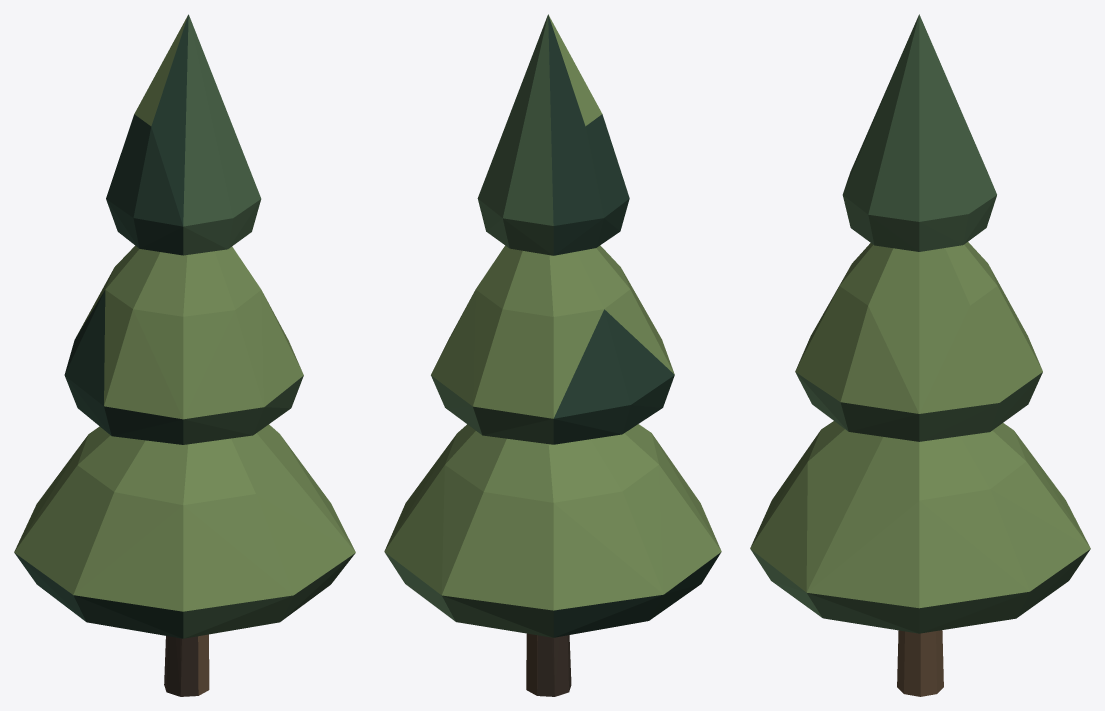
File: TW_TREE_TIERED_SLIM_A_LOD1.glb
3 renders of one model, left to right at view 1: azimuth 30°, elevation 25°; view 2: azimuth 150°, elevation 25°; view 3: azimuth 270°, elevation 25°, orthographic.
Visible parts, largest first — view 1: TW_TREE_TIERED_SLIM_A_LOD1; view 2: TW_TREE_TIERED_SLIM_A_LOD1; view 3: TW_TREE_TIERED_SLIM_A_LOD1.
Boxes of the visible parts, left/top/right/bottom form: TW_TREE_TIERED_SLIM_A_LOD1: left=14, top=14, right=355, bottom=696; TW_TREE_TIERED_SLIM_A_LOD1: left=384, top=14, right=721, bottom=696; TW_TREE_TIERED_SLIM_A_LOD1: left=750, top=14, right=1090, bottom=696.
Size of the model in its own units: 1.7 by 3.8 by 1.74.
Materials: 1 (1 with a texture image).
